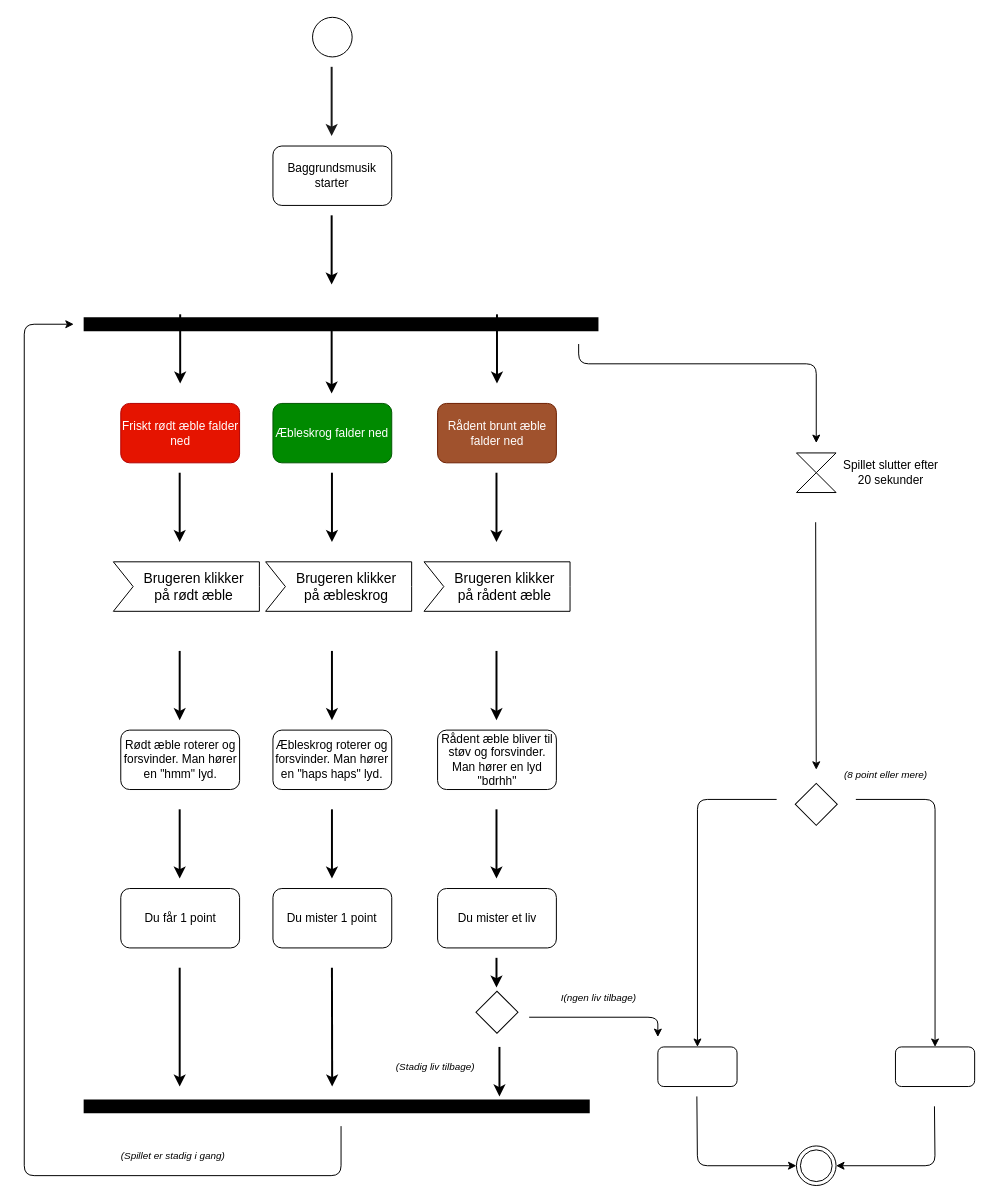
This 992x1203 diagram has some shape labels left out. The centre of each missing label's shape, as x and y in pixels:
Game over: point (697, 1066)
You win!: point (934, 1066)
